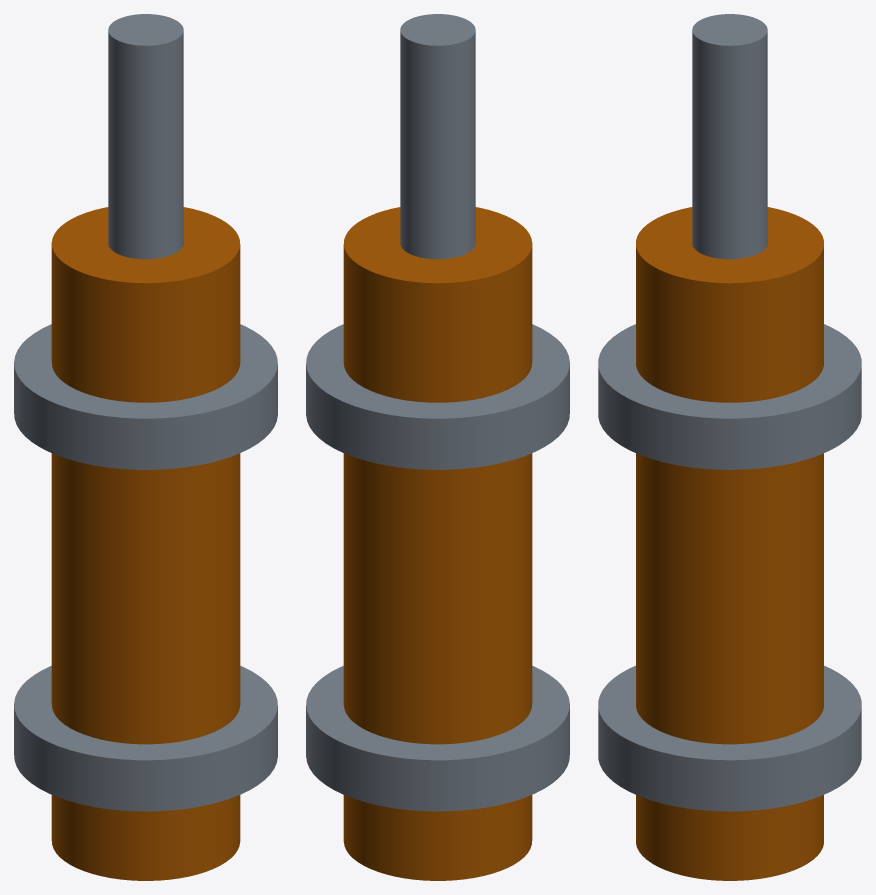
Rendered from shock_absorber.glb.
3 views of the same model, side by side, from view 1: azimuth 30°, elevation 25°; view 2: azimuth 150°, elevation 25°; view 3: azimuth 270°, elevation 25° (orthographic).
Visible parts, largest first — view 1: shock; view 2: shock; view 3: shock.
Boxes of the visible parts, x1,y1,x2,y2 form: shock: [14, 14, 277, 880]; shock: [306, 14, 569, 880]; shock: [598, 14, 861, 880].
Size of the model in its own units: 0.028 by 0.095 by 0.028.
